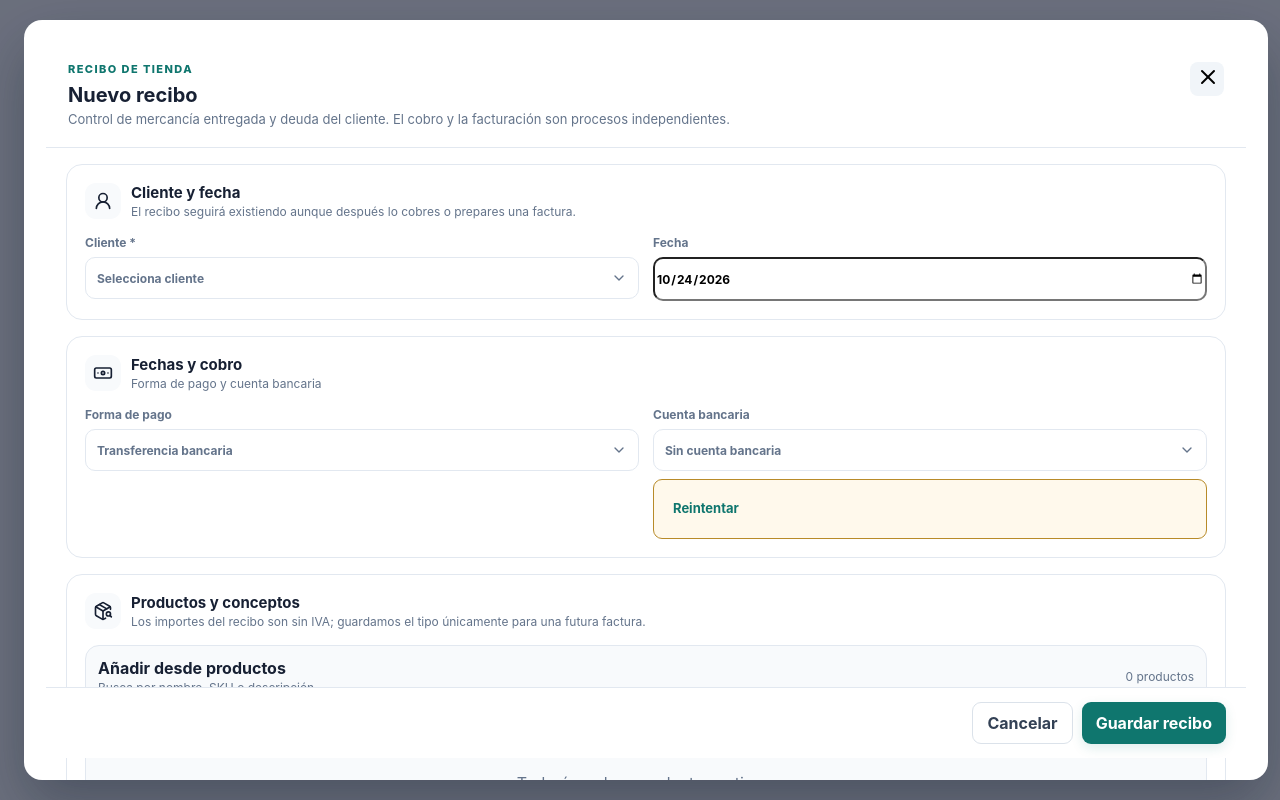
Scenario: refreshes an unchanged dropdown after five seconds without losing its draft
Click the dropdown named "Cliente del recibo".
click(151, 278)  # box [85,257,639,299]
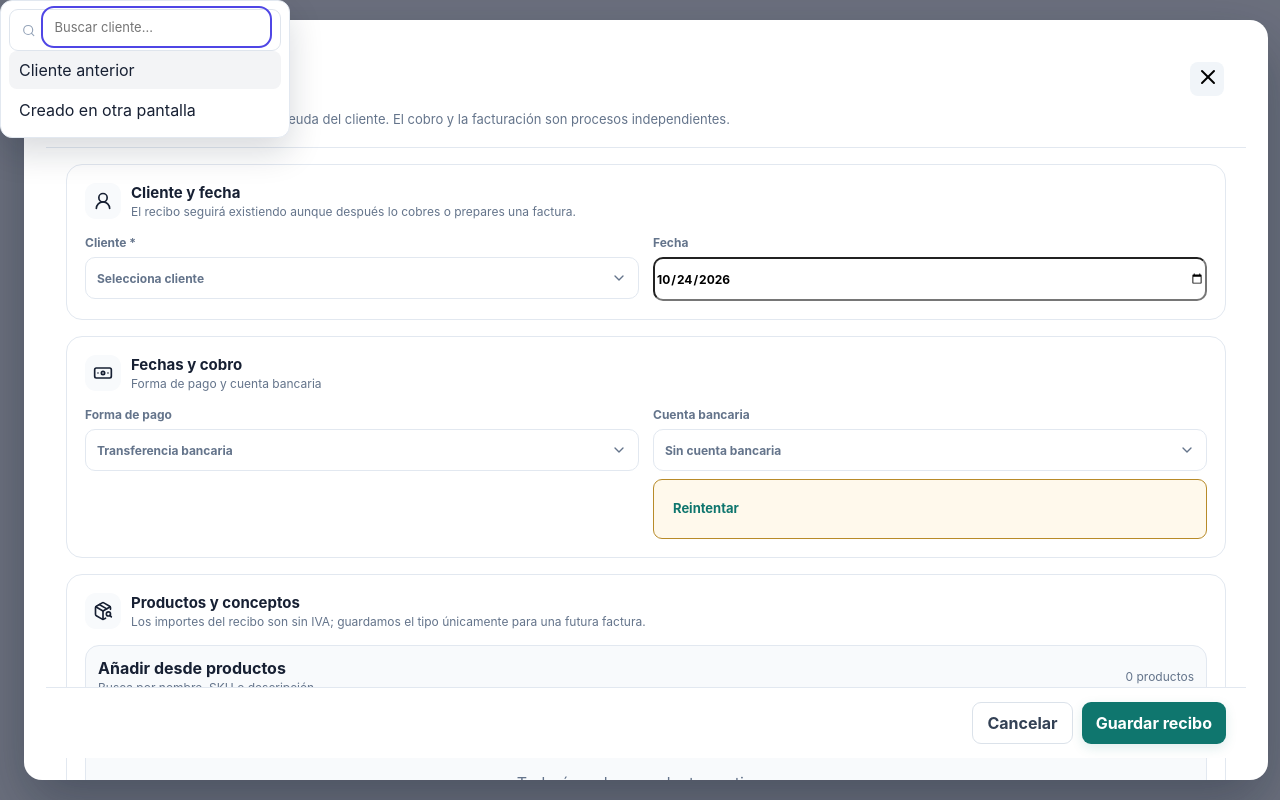
Check: the option "Creado en otra pantalla" is shown, box [9,91,281,129]
